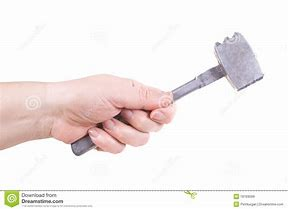hammer: (68, 30, 266, 158)
